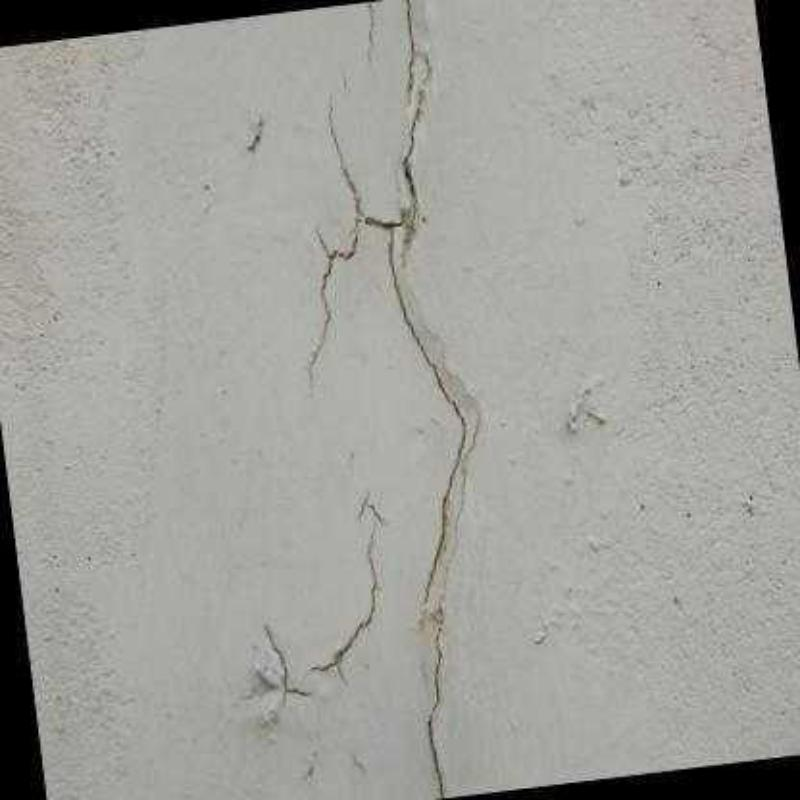pothole: (307, 1, 484, 799), (314, 547, 380, 686), (262, 623, 308, 710), (356, 490, 383, 548), (365, 0, 377, 65)
